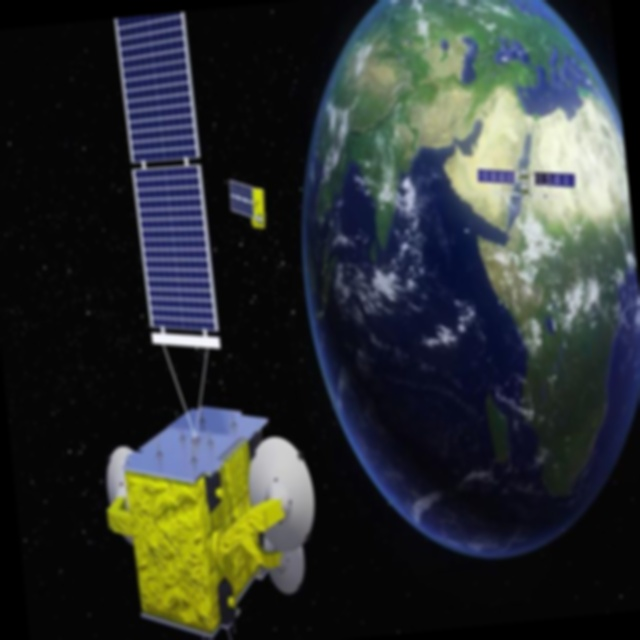medium_debris: (465, 121, 577, 209), (220, 156, 275, 241)
